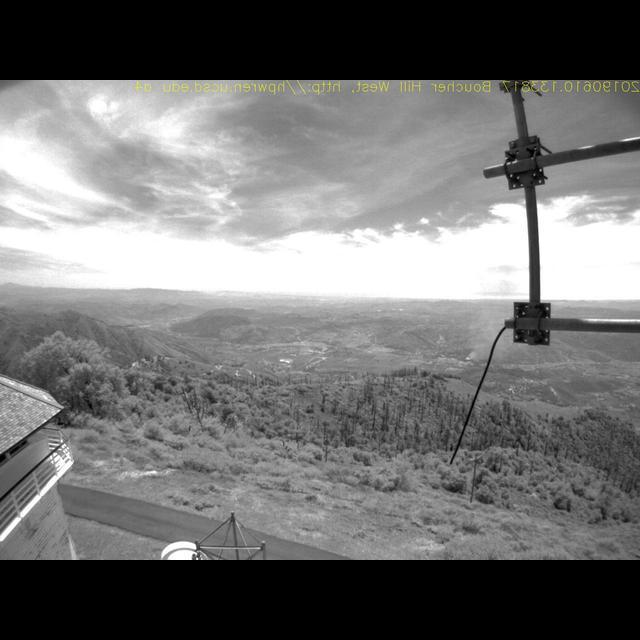Smoke: (463, 270, 517, 365)
